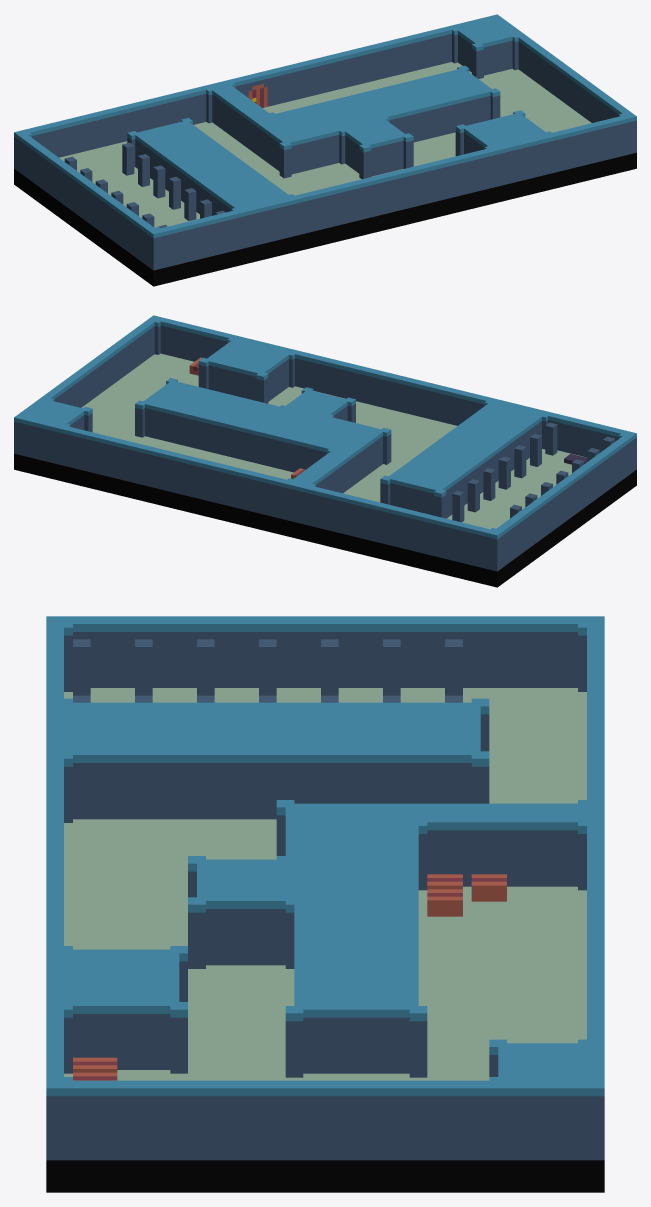
File: hab1.10.obj
3 views of the same model, one above another, from view 1: azimuth 30°, elevation 25°; view 2: azimuth 150°, elevation 25°; view 3: azimuth 270°, elevation 25° (orthographic). The views are drawn at different scales.
Bounding box in the file's own units: 126 × 13 × 63.
1 material, 1 textured.
